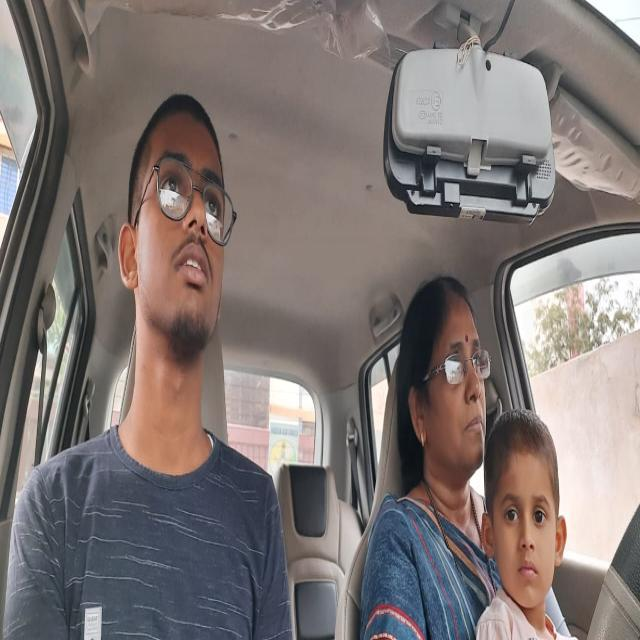child: (486, 410, 566, 608)
person: (117, 82, 234, 405), (396, 273, 489, 494)
